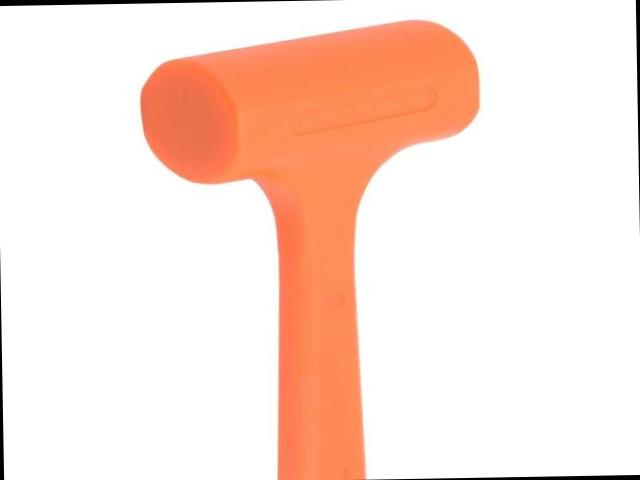hammer: (138, 17, 487, 480)
